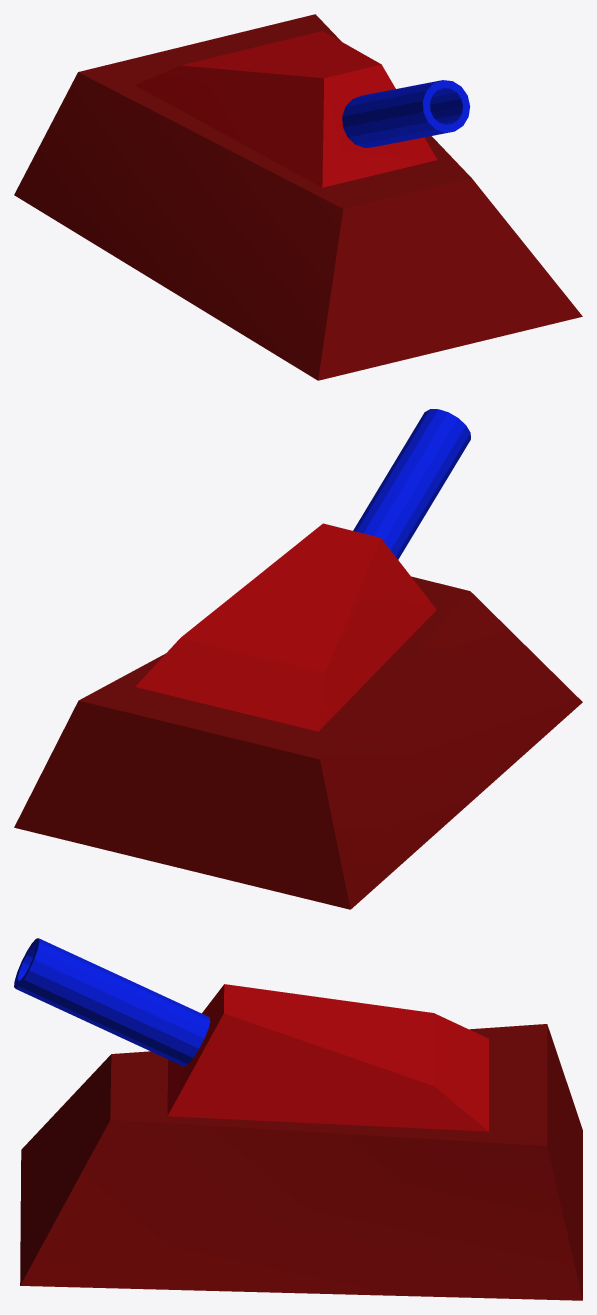
The model's file is Tank.obj.
The picture shows the model from 3 angles, top to bottom: view 1: azimuth 30°, elevation 25°; view 2: azimuth 150°, elevation 25°; view 3: azimuth 270°, elevation 25°; orthographic projection. The views are drawn at different scales.
Visible parts, largest first — view 1: Tank, TankHead, Pipe; view 2: Tank, TankHead, Pipe; view 3: Tank, TankHead, Pipe.
Boxes of the visible parts, left/top/right/bottom form: Tank: left=14, top=14, right=582, bottom=380; TankHead: left=135, top=31, right=437, bottom=187; Pipe: left=342, top=80, right=470, bottom=147; Tank: left=14, top=576, right=582, bottom=909; TankHead: left=135, top=523, right=436, bottom=731; Pipe: left=353, top=409, right=470, bottom=559; Tank: left=20, top=1024, right=582, bottom=1300; TankHead: left=167, top=984, right=488, bottom=1131; Pipe: left=14, top=938, right=210, bottom=1066.
Size of the model in its own units: 2.88 by 2.17 by 4.06.
